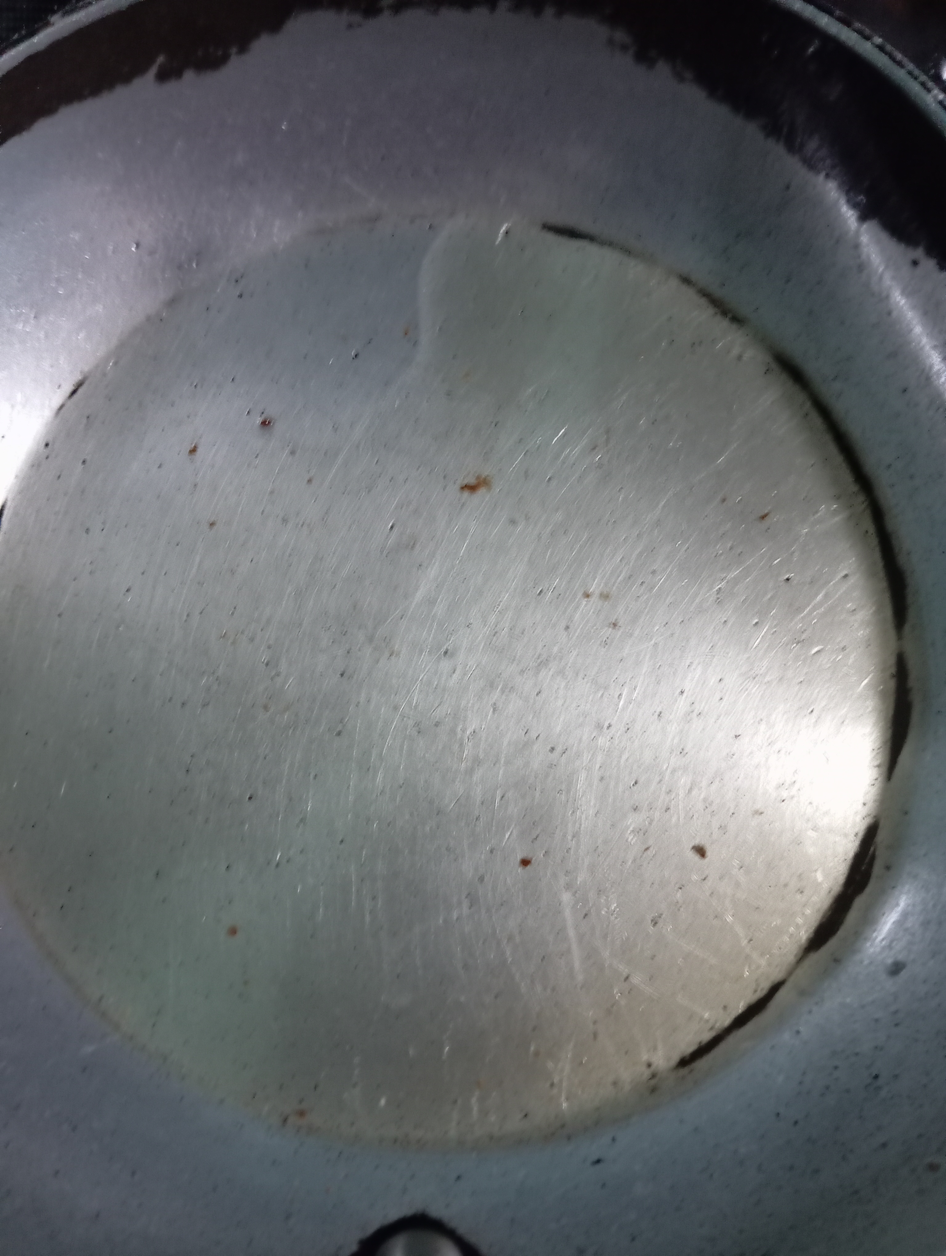reusable: (0, 212, 912, 1142)
